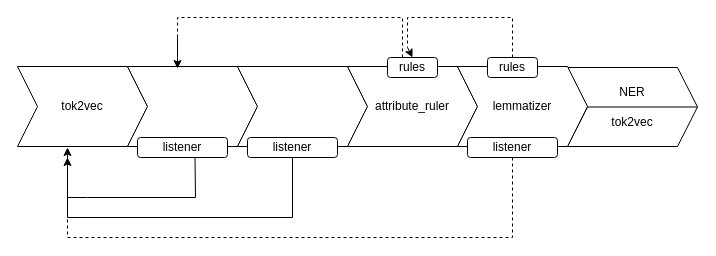
The diagram is 716 pixels wide and 256 high, and some of its shapes have lost their labels. The shapes that lost their labels are listed below. From the top down, each one's box as (x1, y1, x2, y2) in pixels, then its label:
(126, 66, 258, 146): tagger
(236, 66, 368, 146): parser
